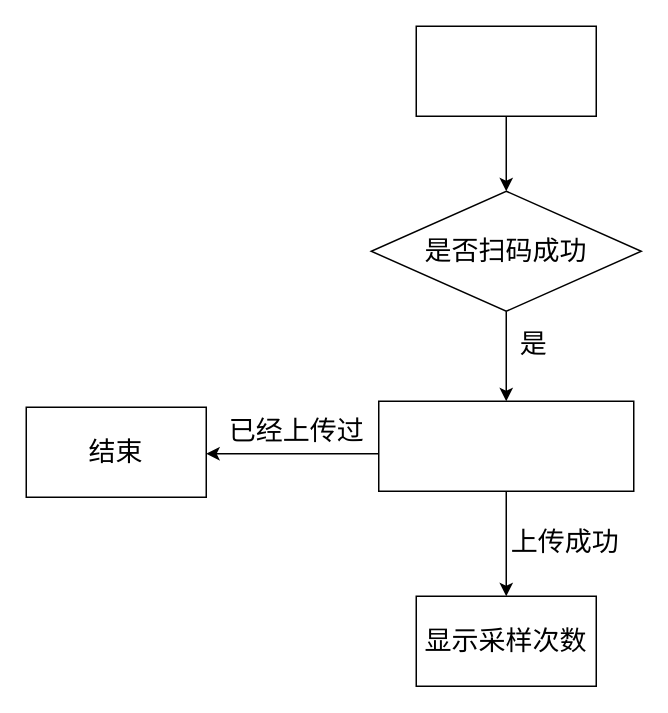
The diagram is 668 pixels wide and 713 high, and some of its shapes have lost their labels. Here are the shapes that lost their labels. From the top down, the centre of each, then its label:
At point (505, 70): "扫码收样".
At point (505, 445): "请求更新为已采样状态接口".
